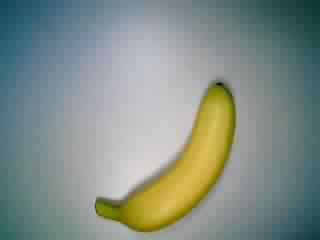banana: (88, 77, 242, 236)
